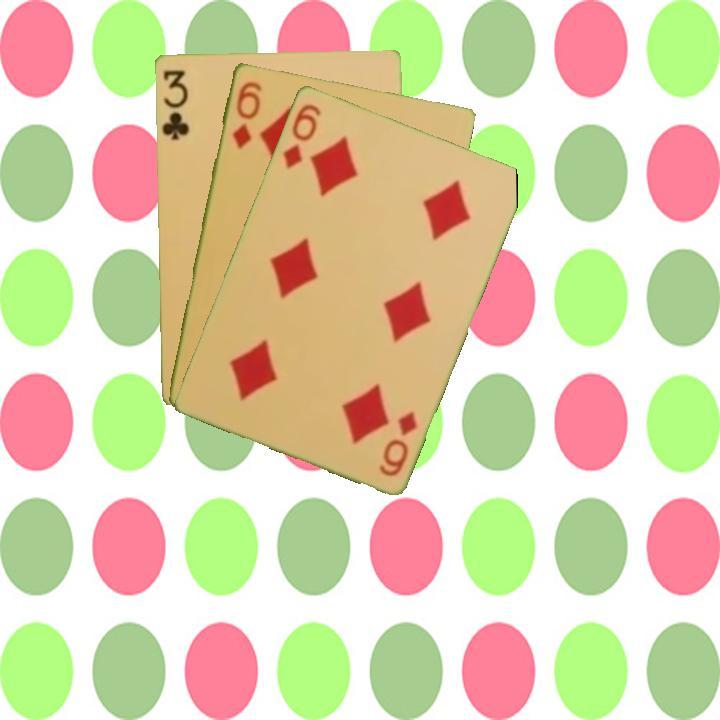3c: (158, 66, 192, 143)
6d: (374, 407, 420, 479), (279, 99, 324, 171), (228, 77, 264, 151)
